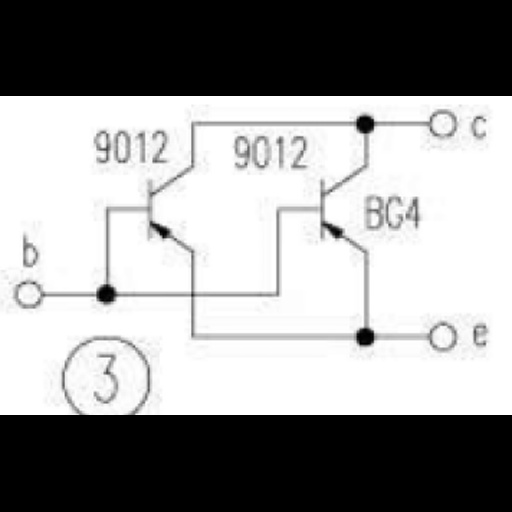pnp: (305, 159, 372, 262), (129, 168, 205, 256)
